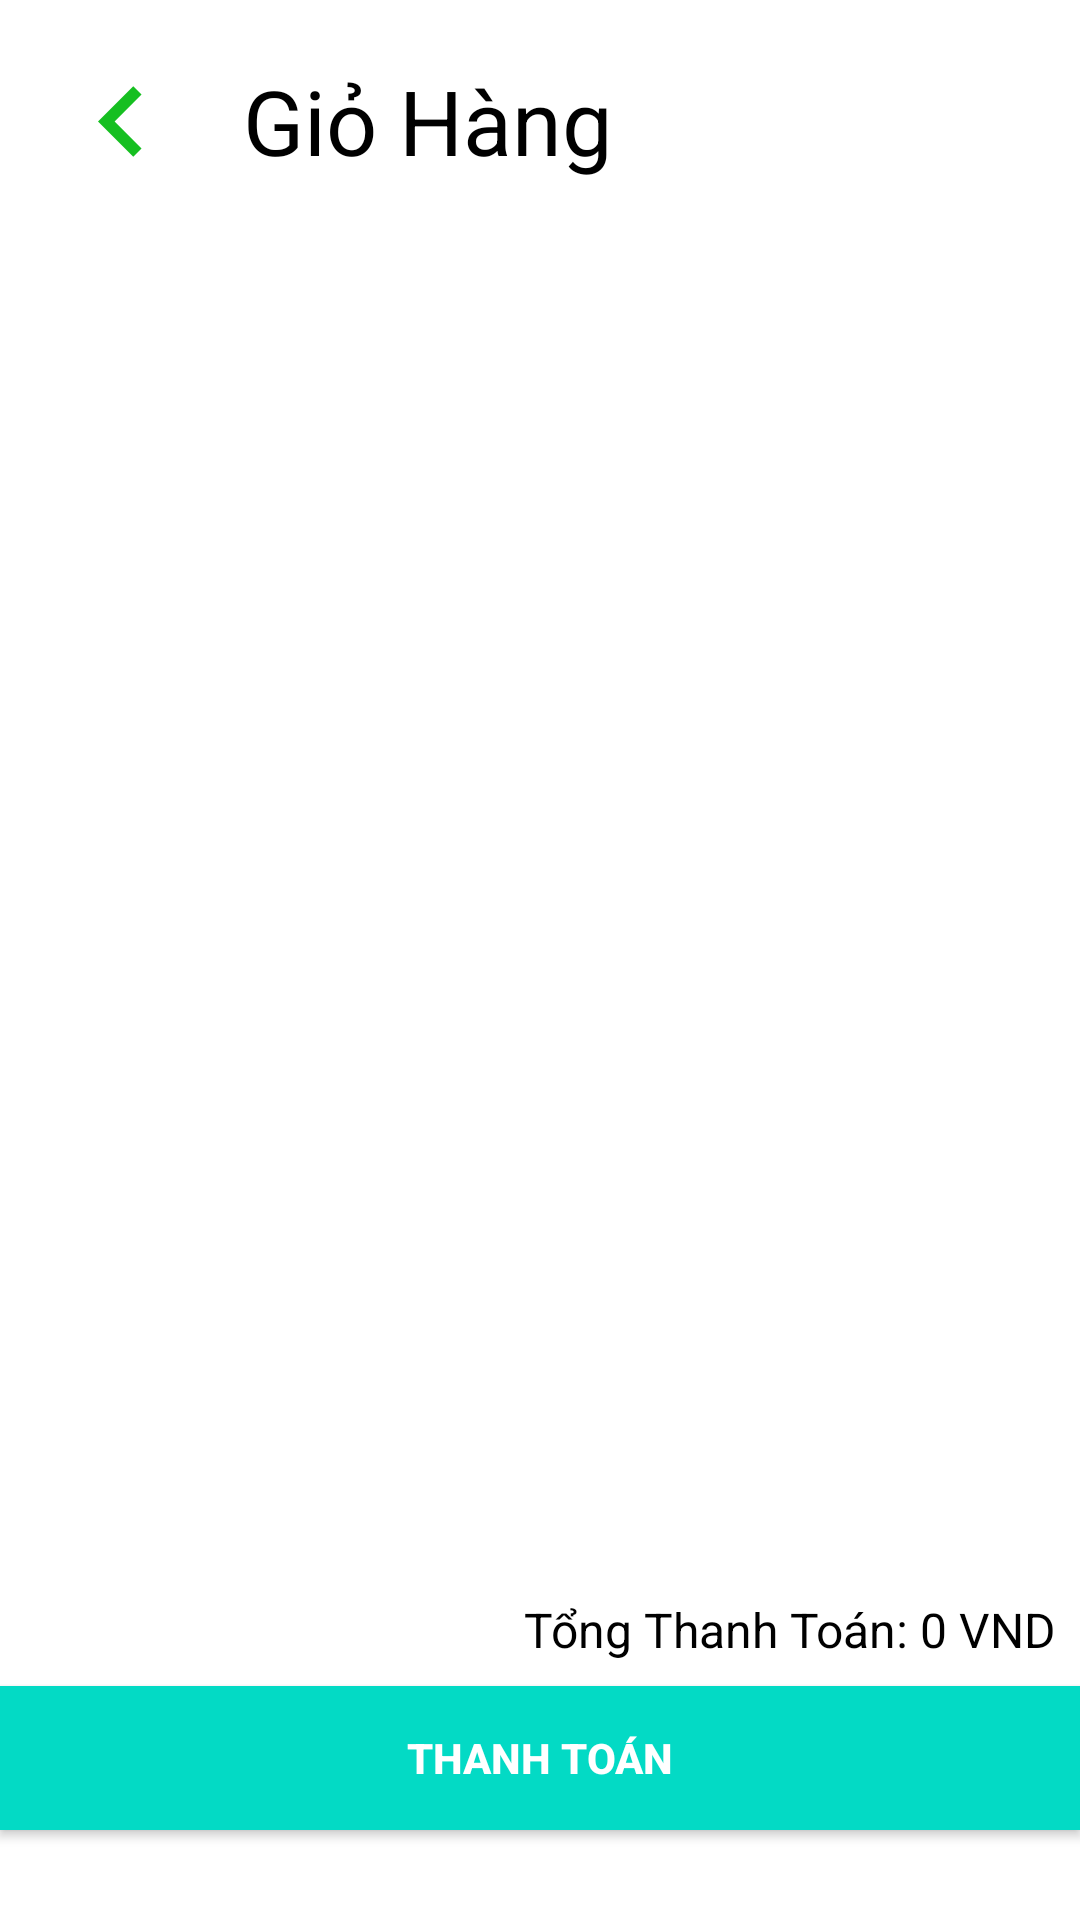

Icons on this 1080*1920 Android screen, each with its box as (x1, y1, x2, y2):
chevron left: (98, 86, 142, 157)
